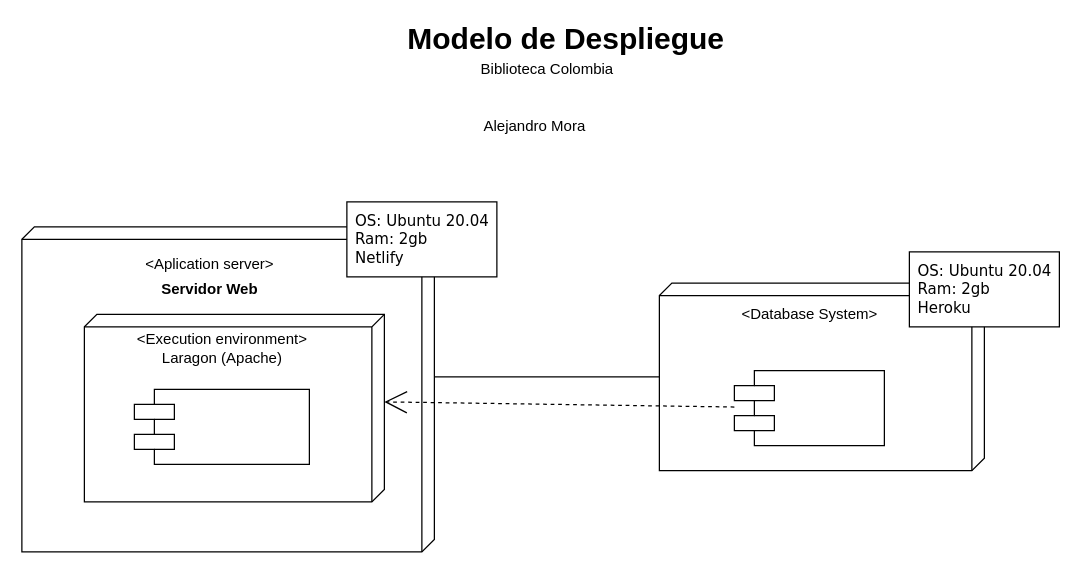
The diagram is 1081 pixels wide and 574 high, and some of its shapes have lost their labels. The shapes that lost their labels are listed below. From the top down, each one's centre as x and y in pixels, then its label:
pixel 221 426: Aplicacion Web <php, js, html>
pixel 808 407: MySQL <Laragon>
